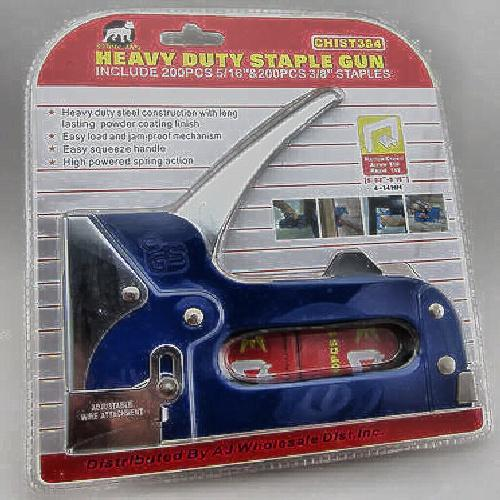stapler: (51, 189, 475, 449)
